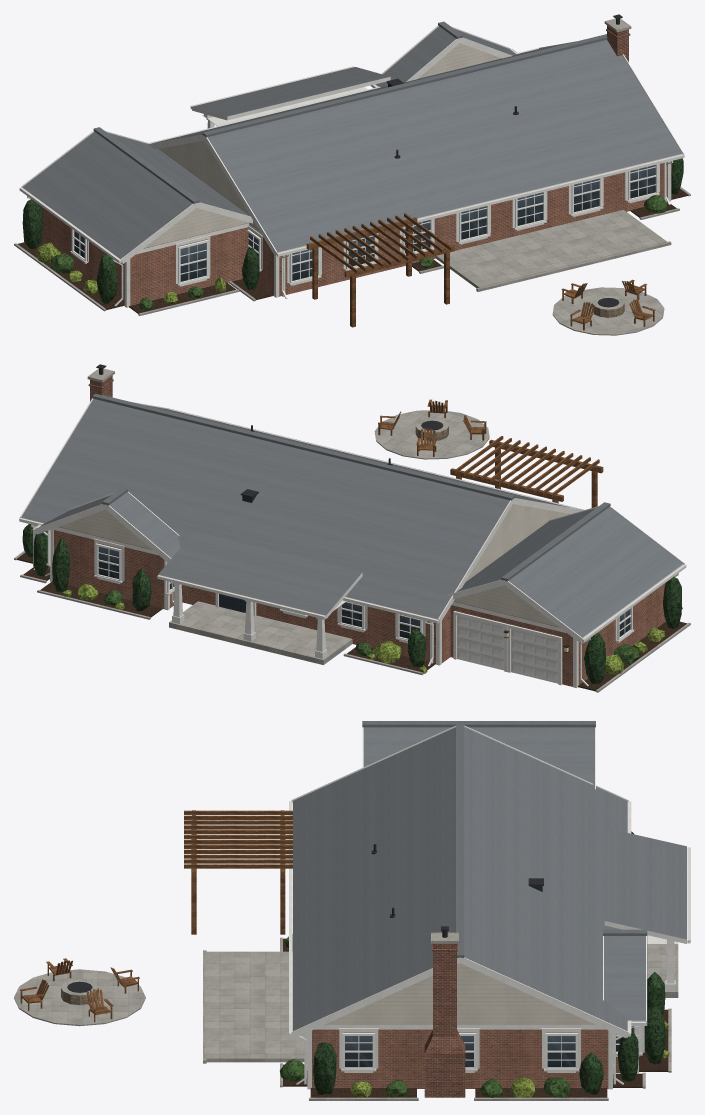
File: gulf_brick_ranch.fbx
3 views of the same model, one above another, from view 1: azimuth 30°, elevation 25°; view 2: azimuth 150°, elevation 25°; view 3: azimuth 270°, elevation 25° (orthographic). The views are drawn at different scales.
Parts seen in each view (by area): view 1: gulf_brick_ranch_LOD0; view 2: gulf_brick_ranch_LOD0; view 3: gulf_brick_ranch_LOD0.
Boxes of the visible parts, <box> form: gulf_brick_ranch_LOD0: <box>14,14,690,335</box>; gulf_brick_ranch_LOD0: <box>14,364,690,692</box>; gulf_brick_ranch_LOD0: <box>14,721,690,1100</box>.
Size of what is drawn, in the model's own units: 29.73 by 7.17 by 26.7.
Materials: 2 (2 with a texture image).
